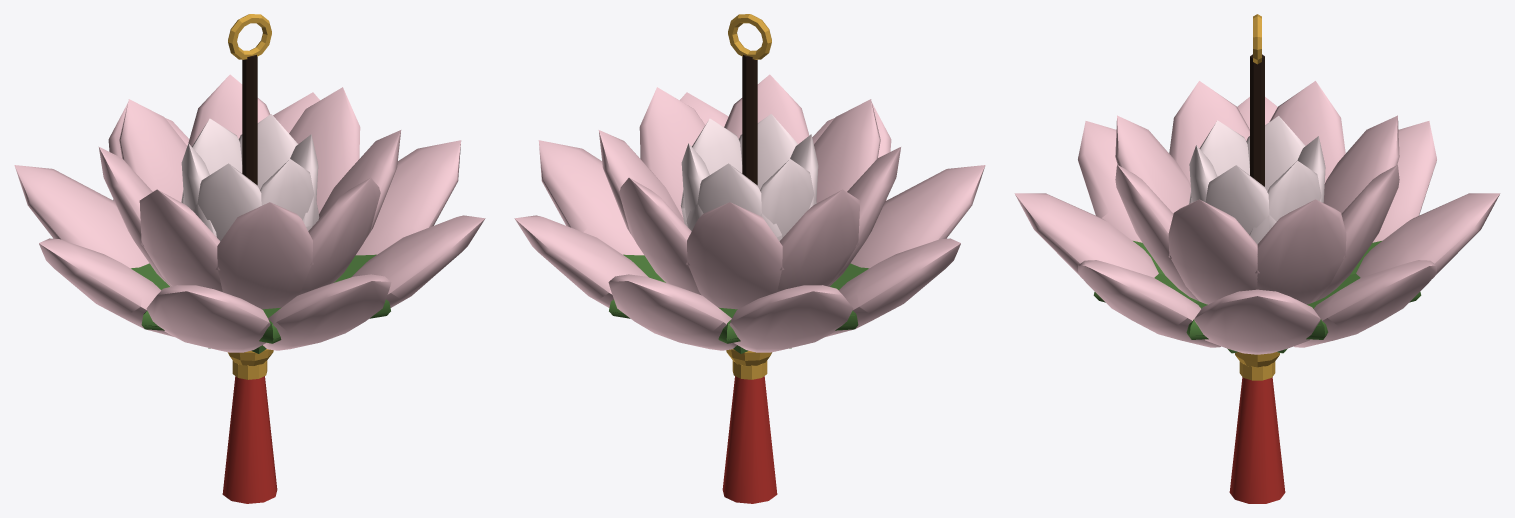
File: temple-lotus-hanging.glb
3 renders of one model, left to right at view 1: azimuth 30°, elevation 25°; view 2: azimuth 150°, elevation 25°; view 3: azimuth 270°, elevation 25°, orthographic.
Parts seen in each view (by area): view 1: petal4_8, petal2_6, petal2_3, petal2_8, petal4_7, petal2_1, tassel12, petal2_7, petal2_2, petal4_1, petal4_3, petal4_5 (+14 smaller); view 2: petal4_5, petal2_8, petal2_3, petal2_6, petal4_6, petal2_5, tassel12, petal2_7, petal2_4, petal4_4, petal4_8, petal4_2 (+14 smaller); view 3: petal4_2, petal4_3, petal2_3, petal2_1, petal2_5, tassel12, petal2_2, petal2_4, petal4_5, petal4_8, petal2_6, petal2_8 (+11 smaller).
Boxes of the visible parts, <box> form: petal4_8: <box>215,202,313,309</box>; petal2_6: <box>14,165,149,268</box>; petal2_3: <box>356,140,461,255</box>; petal2_8: <box>146,285,270,352</box>; petal4_7: <box>139,189,222,291</box>; petal2_1: <box>263,274,391,350</box>; tassel12: <box>222,376,277,503</box>; petal2_7: <box>39,238,173,336</box>; petal2_2: <box>351,215,485,307</box>; petal4_1: <box>298,177,380,295</box>; petal4_3: <box>289,87,360,213</box>; petal4_5: <box>119,99,187,201</box>; petal4_5: <box>686,202,784,309</box>; petal2_8: <box>850,165,985,268</box>; petal2_3: <box>538,140,643,255</box>; petal2_6: <box>729,285,853,352</box>; petal4_6: <box>777,189,860,291</box>; petal2_5: <box>608,274,736,350</box>; tassel12: <box>722,376,777,503</box>; petal2_7: <box>826,238,960,336</box>; petal2_4: <box>514,215,648,307</box>; petal4_4: <box>619,177,701,295</box>; petal4_8: <box>814,99,880,203</box>; petal4_2: <box>639,87,704,217</box>; petal4_2: <box>1168,199,1259,304</box>; petal4_3: <box>1255,199,1346,304</box>; petal2_3: <box>1194,289,1320,354</box>; petal2_1: <box>1014,193,1158,278</box>; petal2_5: <box>1356,193,1500,278</box>; tassel12: <box>1229,377,1285,503</box>; petal2_2: <box>1078,260,1220,347</box>; petal2_4: <box>1294,260,1436,347</box>; petal4_5: <box>1323,115,1399,213</box>; petal4_8: <box>1115,115,1190,213</box>; petal2_6: <box>1372,121,1436,242</box>; petal2_8: <box>1078,121,1142,242</box>.
Bounding box in the file's own units: 0.3837 × 0.415 × 0.3837.
